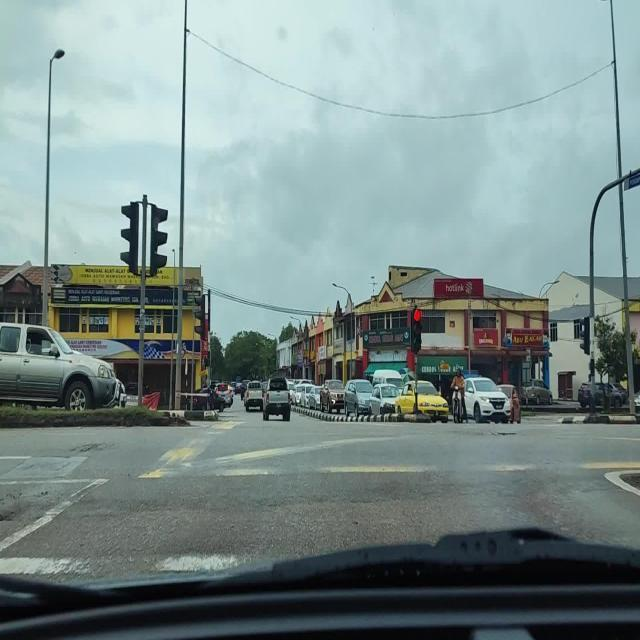red_light: (411, 308, 422, 354)
